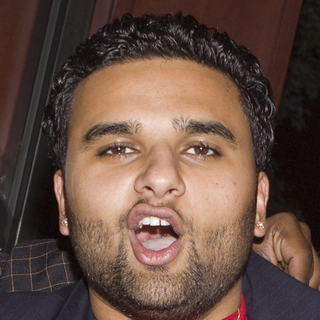eye: (94, 139, 143, 163), (178, 139, 225, 164)
